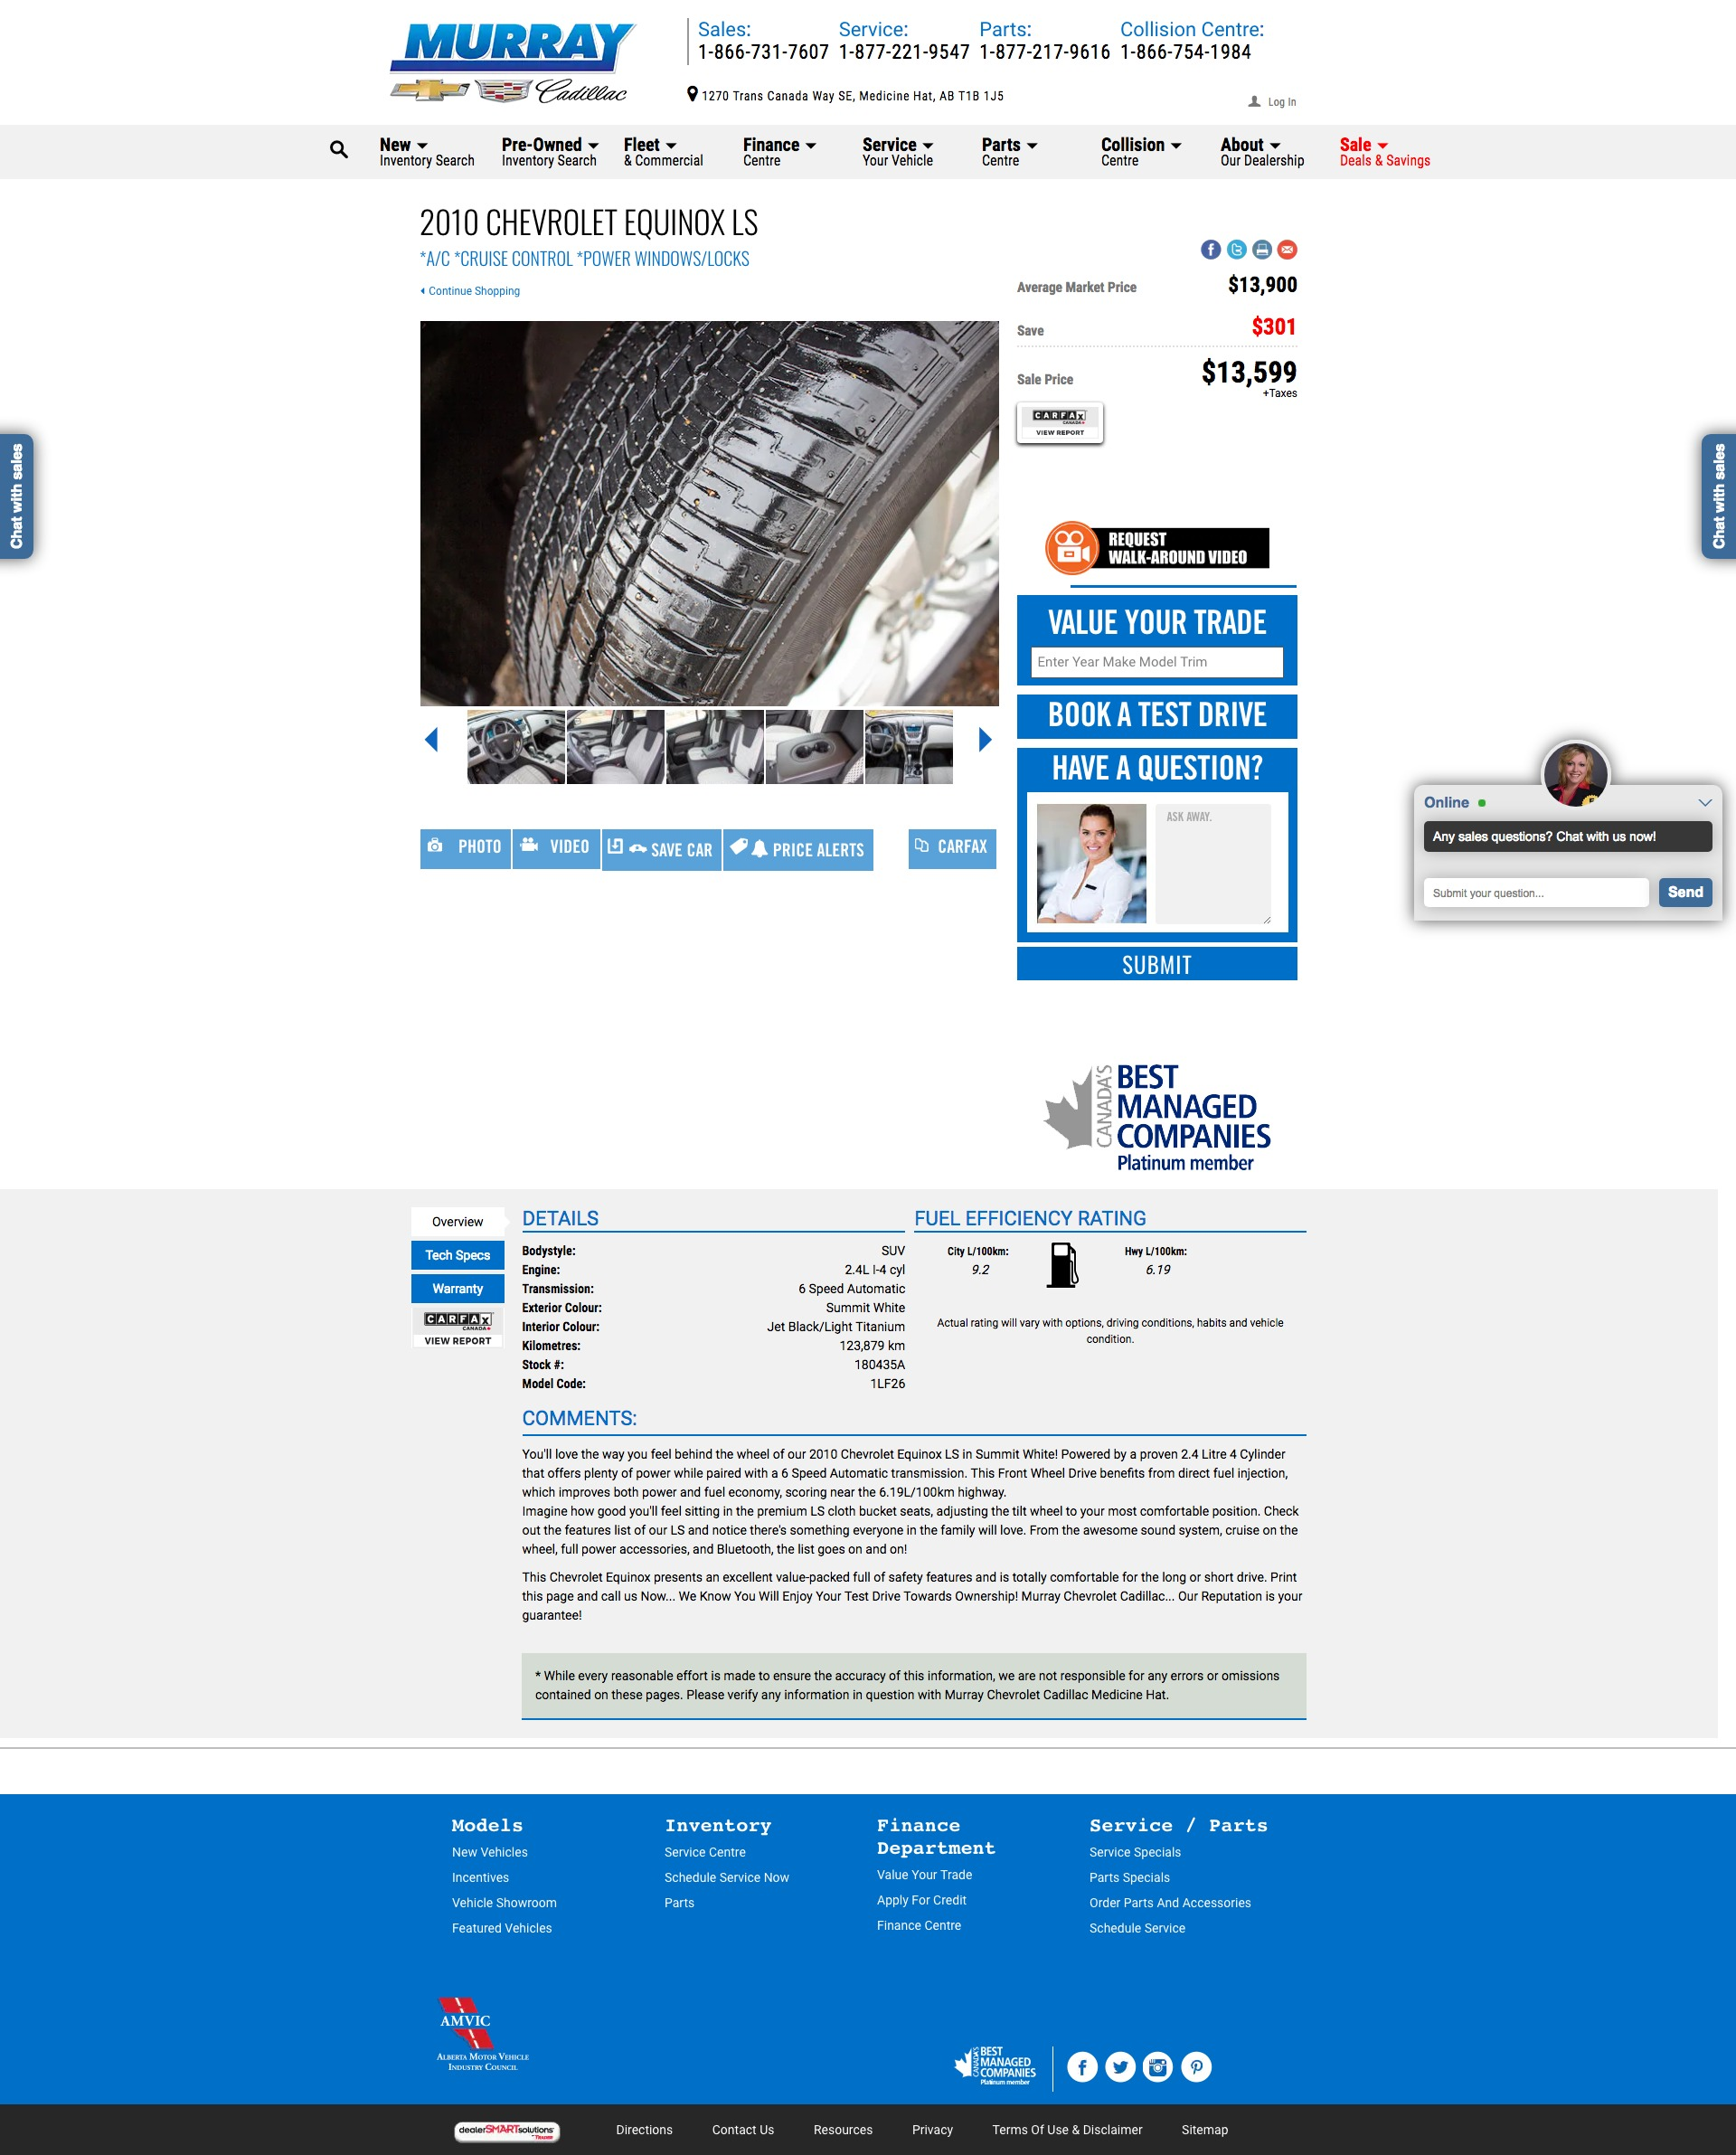car: (978, 727, 994, 753)
